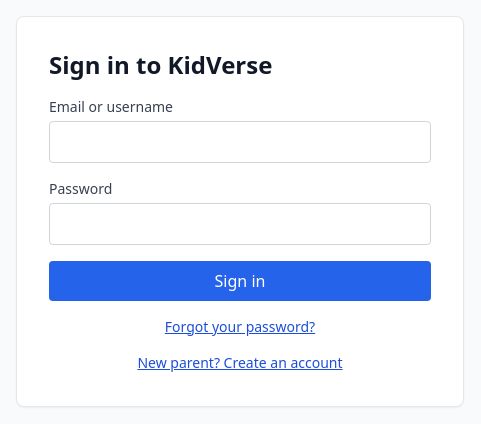
Test: forgot password › is reachable from the sign-in page
Step 1. Click the link "Forgot your password?" → {"x": 240, "y": 326}, box [165,316,315,336]
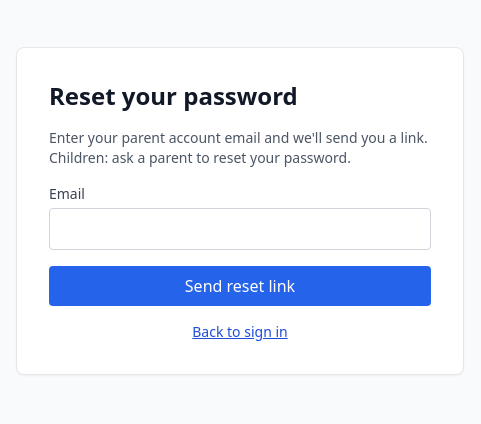
Now the heading "Reset your password" is shown, box [49,79,298,112]
